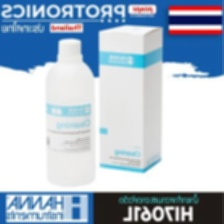book: (97, 22, 164, 174)
cleaning_solution: (42, 38, 96, 190)
